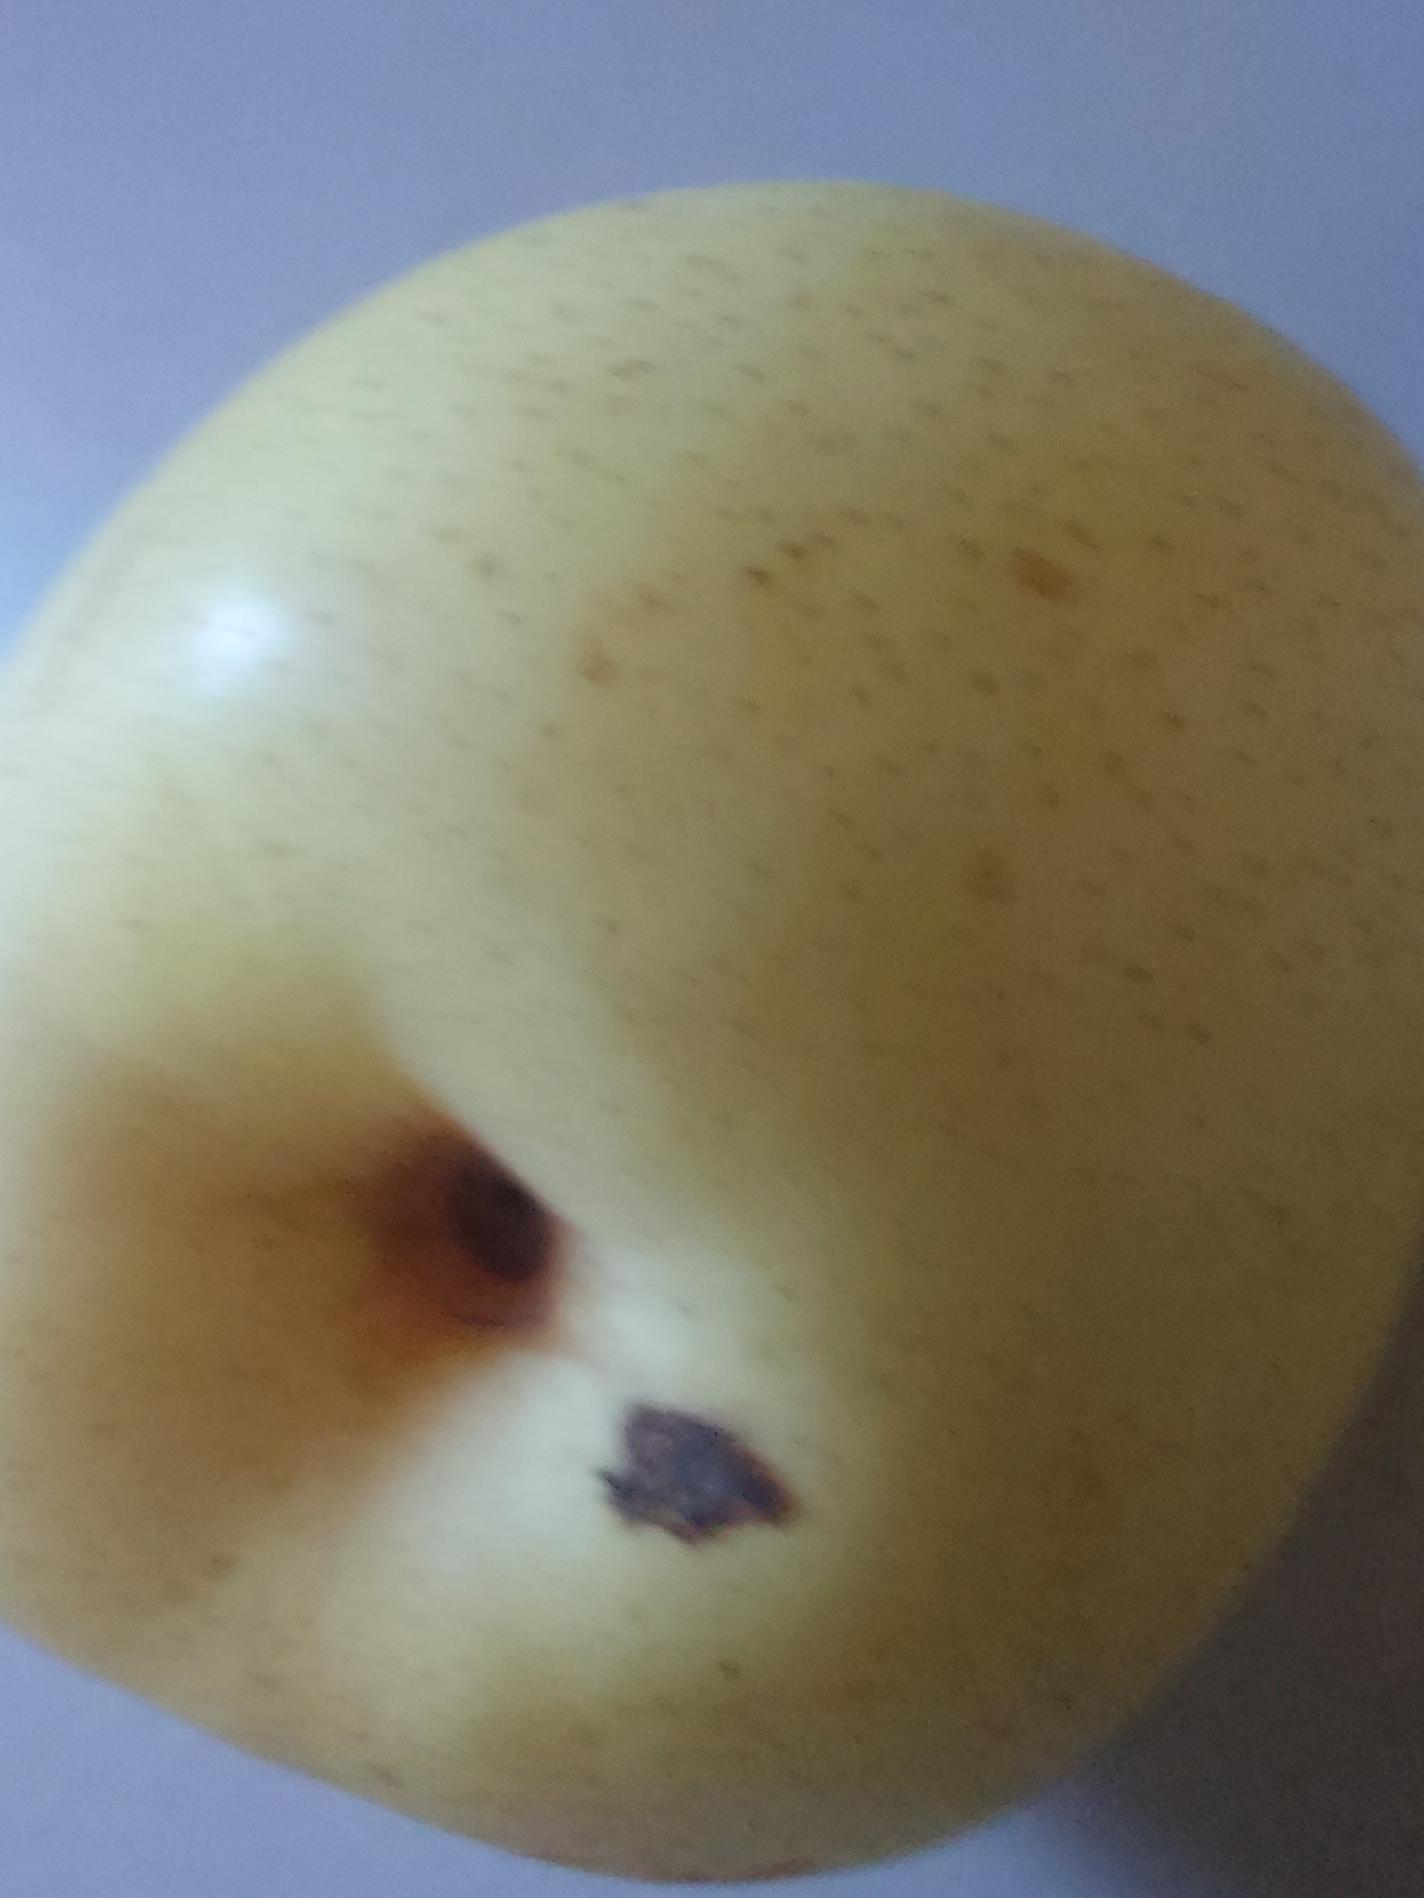Good Pear: (0, 169, 1424, 1898)
